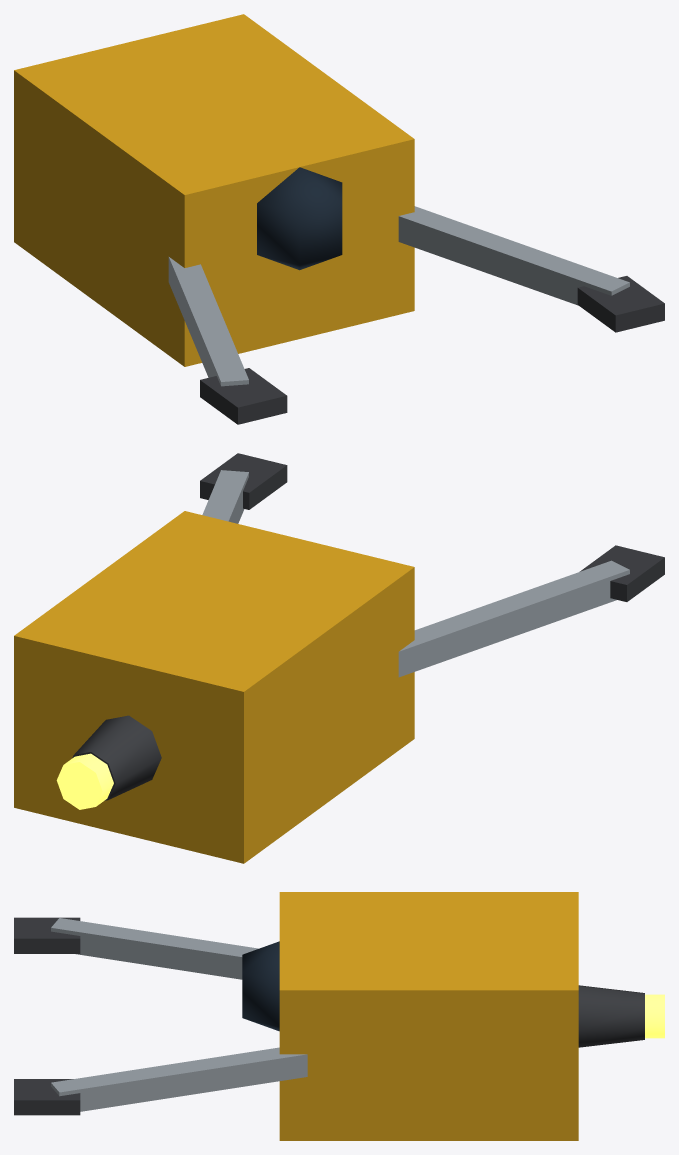
Rendered from space_ship_builder_drone_mk1.glb.
The picture shows the model from 3 angles, top to bottom: view 1: azimuth 30°, elevation 25°; view 2: azimuth 150°, elevation 25°; view 3: azimuth 270°, elevation 25°; orthographic projection. The views are drawn at different scales.
Visible parts, largest first — view 1: body, arm_1, arm_0; view 2: body, arm_0, engine_0, arm_1; view 3: body, arm_1, arm_0, engine_0.
Part boxes in pixels (bbox=[...]): body: bbox=[14, 14, 414, 366]; arm_1: bbox=[398, 206, 664, 332]; arm_0: bbox=[168, 257, 287, 424]; body: bbox=[14, 511, 414, 863]; arm_0: bbox=[398, 545, 664, 677]; engine_0: bbox=[56, 715, 161, 809]; arm_1: bbox=[200, 453, 287, 523]; body: bbox=[242, 892, 578, 1140]; arm_1: bbox=[14, 1047, 307, 1115]; arm_0: bbox=[14, 917, 258, 979]; engine_0: bbox=[578, 985, 664, 1047].
Size of what is drawn, in the model's own units: 2.6 by 1 by 3.92.
